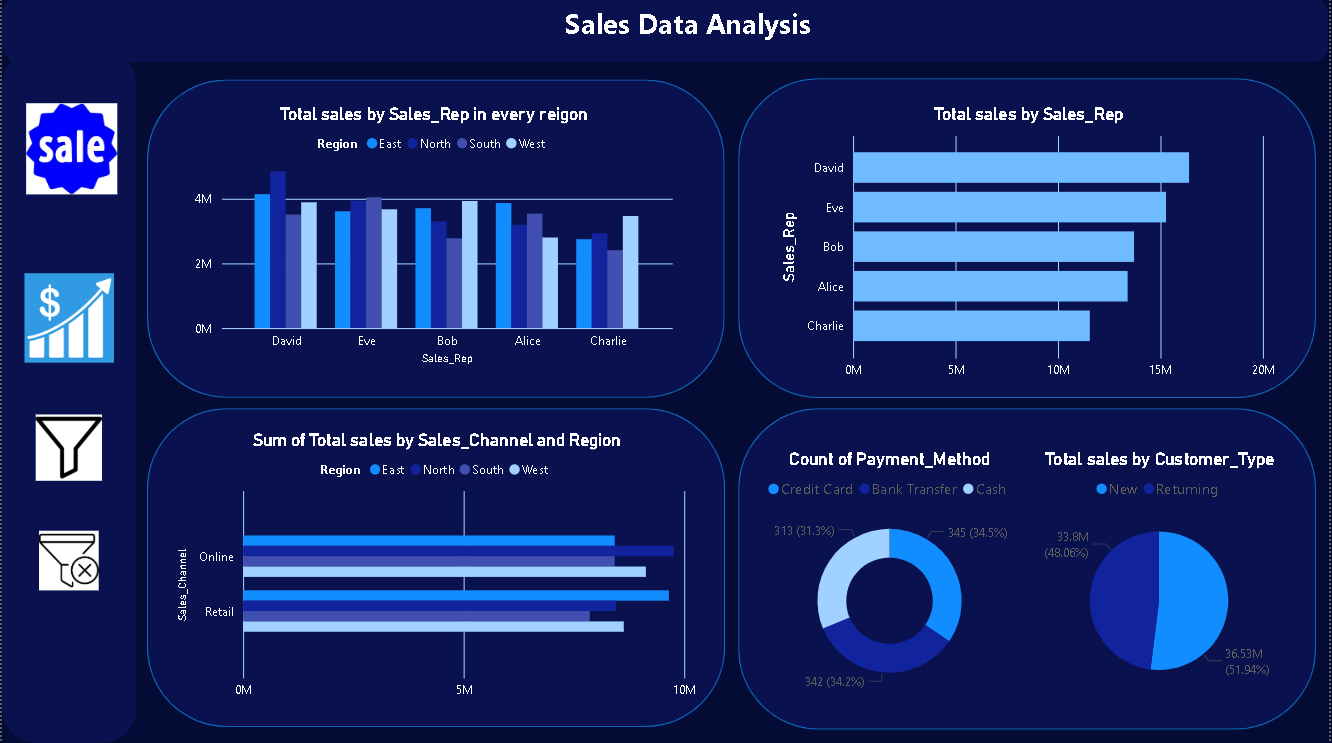

Layout of this report page (visuals, bound fields, positions):
{"tool":"powerbi","page":{"name":"Rep&customer details","canvas":[1280,720],"ordinal":1},"visuals":[{"type":"shape","box":[711,396.5,557.9,310.3],"z":0},{"type":"shape","box":[140,396.9,558,307.6],"z":1000},{"type":"shape","box":[711,77.9,557.9,308.9],"z":2000},{"type":"shape","box":[140.5,79.3,557.9,307.5],"z":3000},{"type":"shape","box":[0,0,1280.3,63.1],"z":4000},{"type":"shape","box":[0,52,130,668.3],"z":5000},{"type":"clusteredColumnChart","title":"Total sales by Sales_Rep in every reigon","fields":{"Category":["sales_data.Sales_Rep"],"Series":["sales_data.Region"],"Y":["Sum(sales_data.Total sales)"]},"box":[181,102.5,471.7,257],"z":6000},{"type":"clusteredBarChart","title":"Total sales by Sales_Rep","fields":{"Category":["sales_data.Sales_Rep"],"Y":["Sum(sales_data.Total sales)"]},"box":[746.8,102.5,487.4,275.1],"z":7000},{"type":"clusteredBarChart","fields":{"Category":["sales_data.Sales_Channel"],"Series":["sales_data.Region"],"Y":["Sum(sales_data.Total sales)"]},"box":[164.1,417.4,511.5,269],"z":8000},{"type":"donutChart","title":"Count of Payment_Method","fields":{"Category":["sales_data.Payment_Method"],"Y":["CountNonNull(sales_data.Product_ID)"]},"box":[710.6,435.5,292,246.1],"z":9000},{"type":"pieChart","title":"Total sales by Customer_Type","fields":{"Category":["sales_data.Customer_Type"],"Y":["Sum(sales_data.Total sales)"]},"box":[990.5,435.5,253.4,246.1],"z":10000},{"type":"textbox","box":[451.2,2.4,415,53.1],"z":11000},{"type":"image","box":[16.9,261.8,96.5,96.5],"z":12000},{"type":"image","box":[16.9,97.7,101.3,97.7],"z":13000},{"type":"image","box":[25.3,398.1,78.4,73.6],"z":14000},{"type":"image","box":[25.3,510.3,78.4,67.6],"z":15000}]}

Visuals, with their boxes in screenshot pixels (x1, y1, x2, y2), scaled from the page's 1280x720 canvas onto the 1332x743 screenshot:
shape: bbox=(740, 409, 1320, 729)
shape: bbox=(146, 410, 726, 727)
shape: bbox=(740, 80, 1320, 399)
shape: bbox=(146, 82, 727, 399)
shape: bbox=(0, 0, 1331, 65)
shape: bbox=(0, 54, 135, 742)
"Total sales by Sales_Rep in every reigon" clusteredColumnChart: bbox=(188, 106, 679, 371)
"Total sales by Sales_Rep" clusteredBarChart: bbox=(777, 106, 1284, 390)
clusteredBarChart - sales_data.Sales_Channel x sales_data.Region: bbox=(171, 431, 703, 708)
"Count of Payment_Method" donutChart: bbox=(739, 449, 1043, 703)
"Total sales by Customer_Type" pieChart: bbox=(1031, 449, 1294, 703)
textbox: bbox=(470, 2, 901, 57)
image: bbox=(18, 270, 118, 370)
image: bbox=(18, 101, 123, 202)
image: bbox=(26, 411, 108, 487)
image: bbox=(26, 527, 108, 596)
